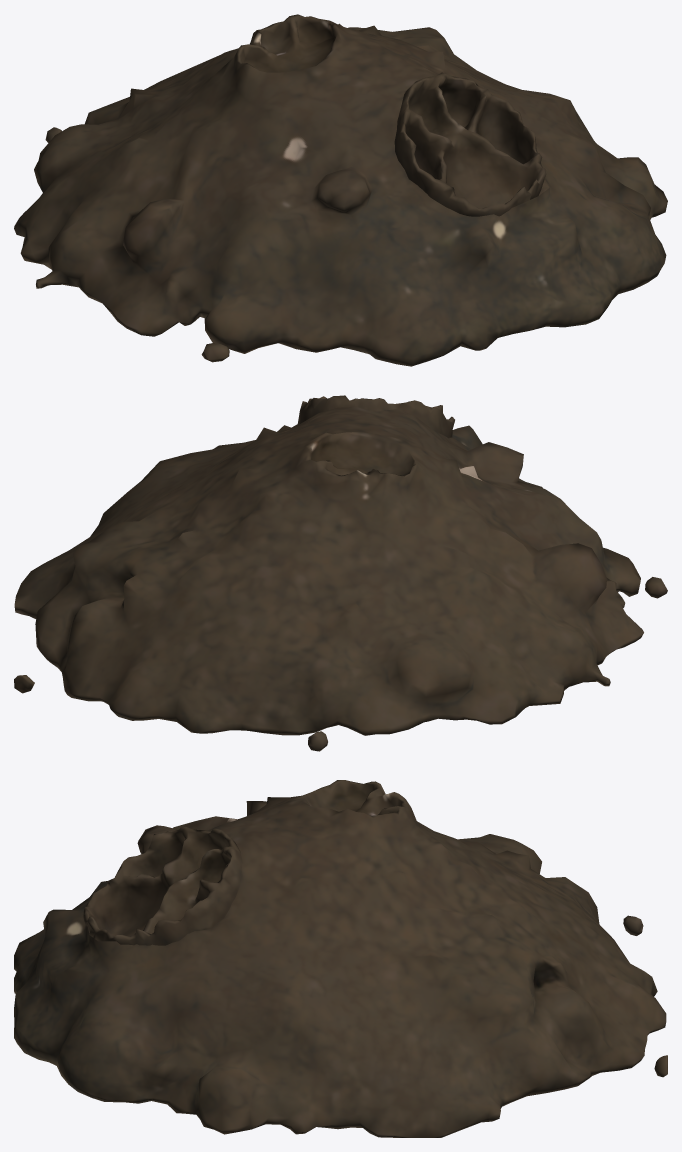
File: SuperMonticule2.fbx
3 views of the same model, one above another, from view 1: azimuth 30°, elevation 25°; view 2: azimuth 150°, elevation 25°; view 3: azimuth 270°, elevation 25° (orthographic). The views are drawn at different scales.
Visible parts, largest first — view 1: geometry_0; view 2: geometry_0; view 3: geometry_0.
Boxes of the visible parts, x1,y1,x2,y2 form: geometry_0: (14, 14, 667, 366); geometry_0: (14, 395, 667, 751); geometry_0: (14, 780, 667, 1137).
Bounding box in the file's own units: 99.59 × 34.63 × 100.
1 material, 1 textured.
